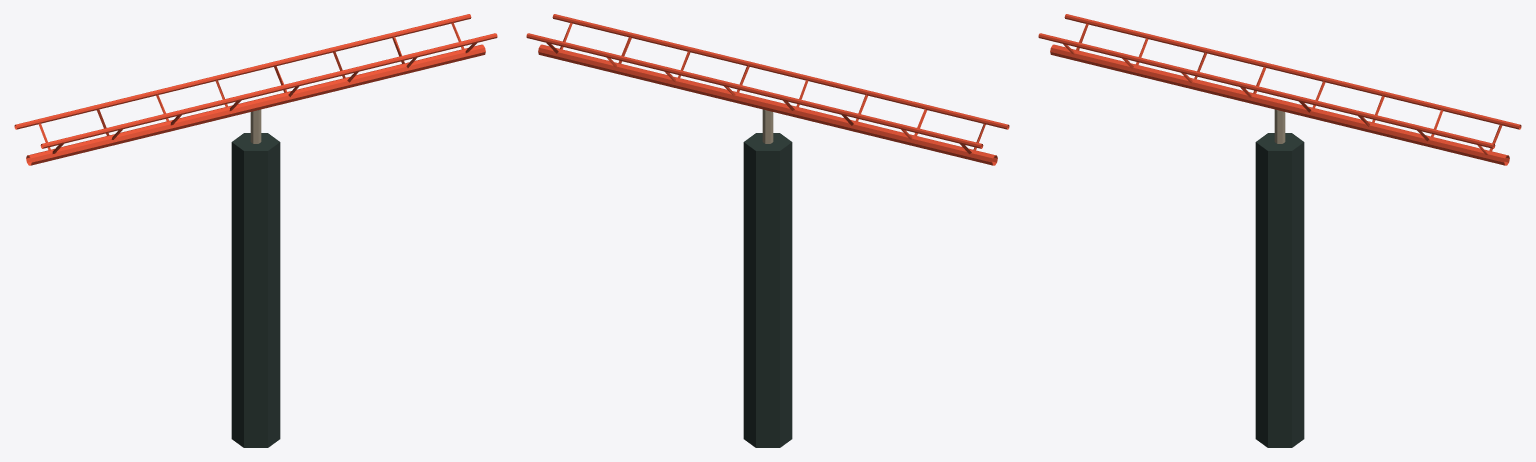
File: RollerCoaster_A.fbx
3 views of the same model, side by side, from view 1: azimuth 30°, elevation 25°; view 2: azimuth 150°, elevation 25°; view 3: azimuth 330°, elevation 25° (orthographic).
Parts seen in each view (by area): view 1: RollerCoaster_A; view 2: RollerCoaster_A; view 3: RollerCoaster_A.
Part boxes in pixels (<box>): RollerCoaster_A: <box>14,14,497,447</box>; RollerCoaster_A: <box>526,14,1009,447</box>; RollerCoaster_A: <box>1038,14,1521,447</box>.
Bounding box in the file's own units: 400 × 303 × 44.08.
